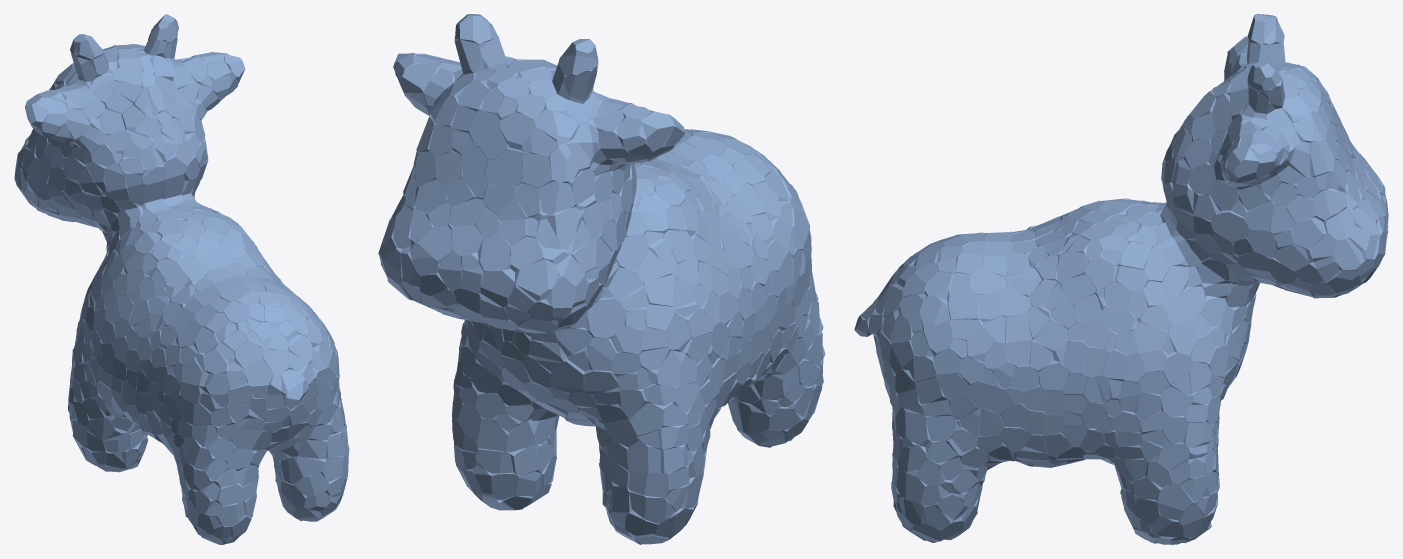
File: cow_0.1pct_voromesh.glb
3 renders of one model, left to right at view 1: azimuth 30°, elevation 25°; view 2: azimuth 150°, elevation 25°; view 3: azimuth 270°, elevation 25°, orthographic. The views are drawn at different scales.
Parts seen in each view (by area): view 1: cow_noise_0.1pct_voromesh.obj; view 2: cow_noise_0.1pct_voromesh.obj; view 3: cow_noise_0.1pct_voromesh.obj.
Boxes of the visible parts, <box> form: cow_noise_0.1pct_voromesh.obj: <box>14,14,349,544</box>; cow_noise_0.1pct_voromesh.obj: <box>378,14,825,544</box>; cow_noise_0.1pct_voromesh.obj: <box>854,14,1388,544</box>.
Bounding box in the file's own units: 0.5467 × 0.9851 × 1.
